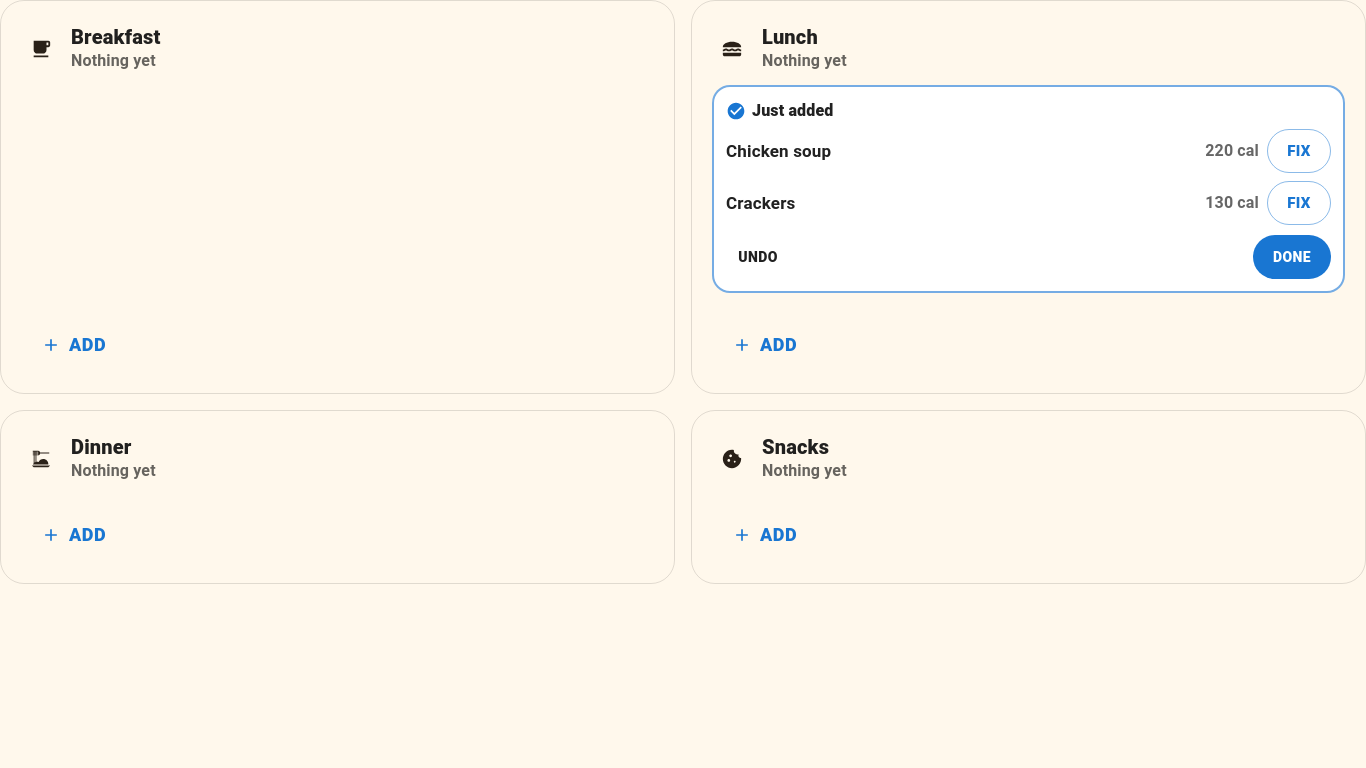
Test case: the "Just added" strip › Done puts it away
The image size is (1366, 768).
Click the button "Done": (1292, 257) [1253,235,1331,279]
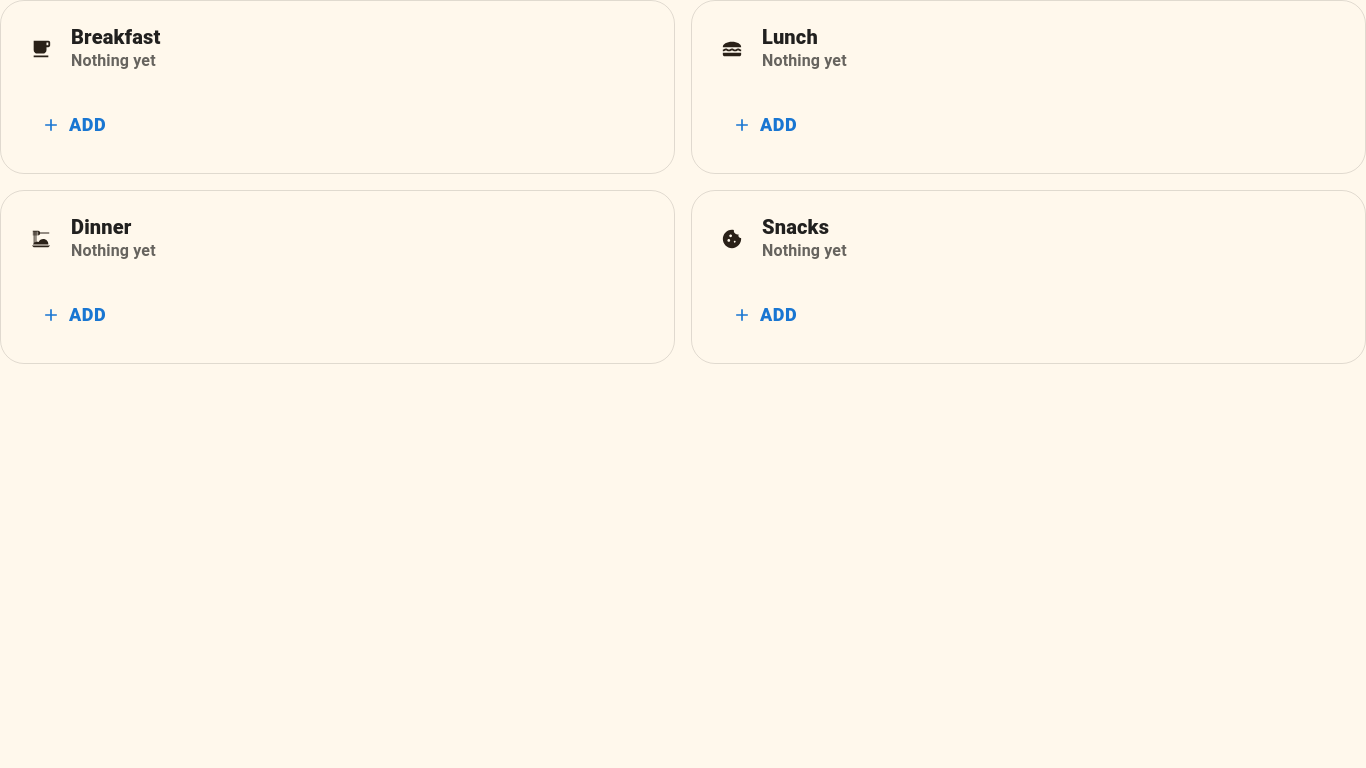
Result: the element with test id "just-added" is gone
